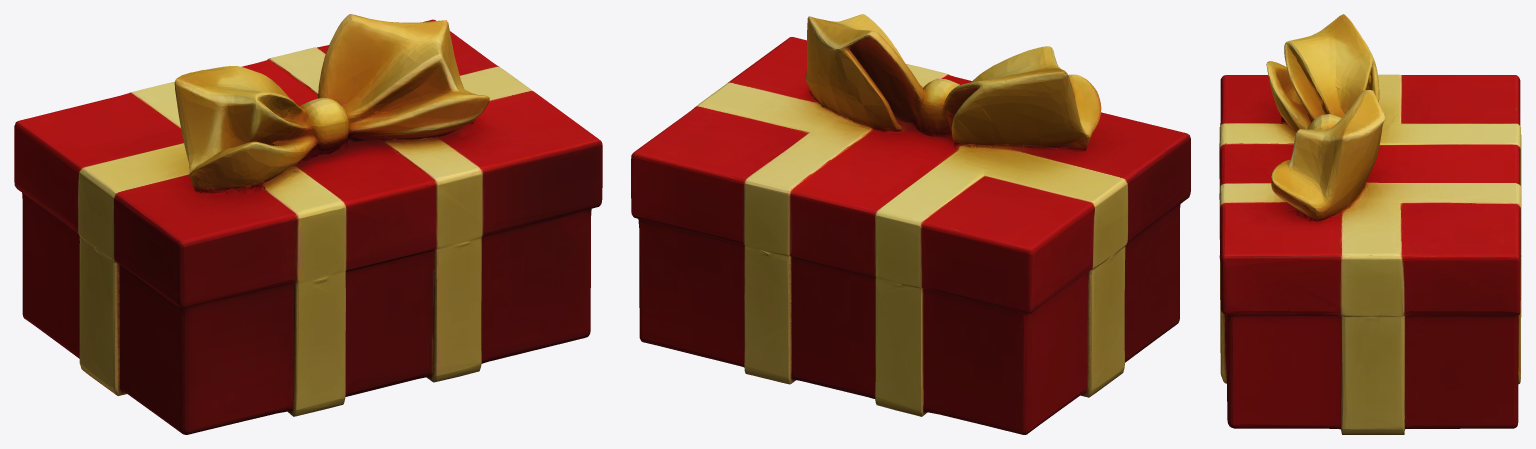
The picture shows the model from 3 angles, left to right: view 1: azimuth 30°, elevation 25°; view 2: azimuth 150°, elevation 25°; view 3: azimuth 270°, elevation 25°; orthographic projection. The views are drawn at different scales.
Visible parts, largest first — view 1: geometry_0; view 2: geometry_0; view 3: geometry_0.
Part boxes in pixels (box(x1,y1,x2,y2)): geometry_0: box(14, 14, 602, 434); geometry_0: box(631, 14, 1190, 434); geometry_0: box(1219, 14, 1521, 434).
Size of the model in its own units: 0.9986 by 0.6967 by 0.6956.
Materials: 1 (1 with a texture image).
